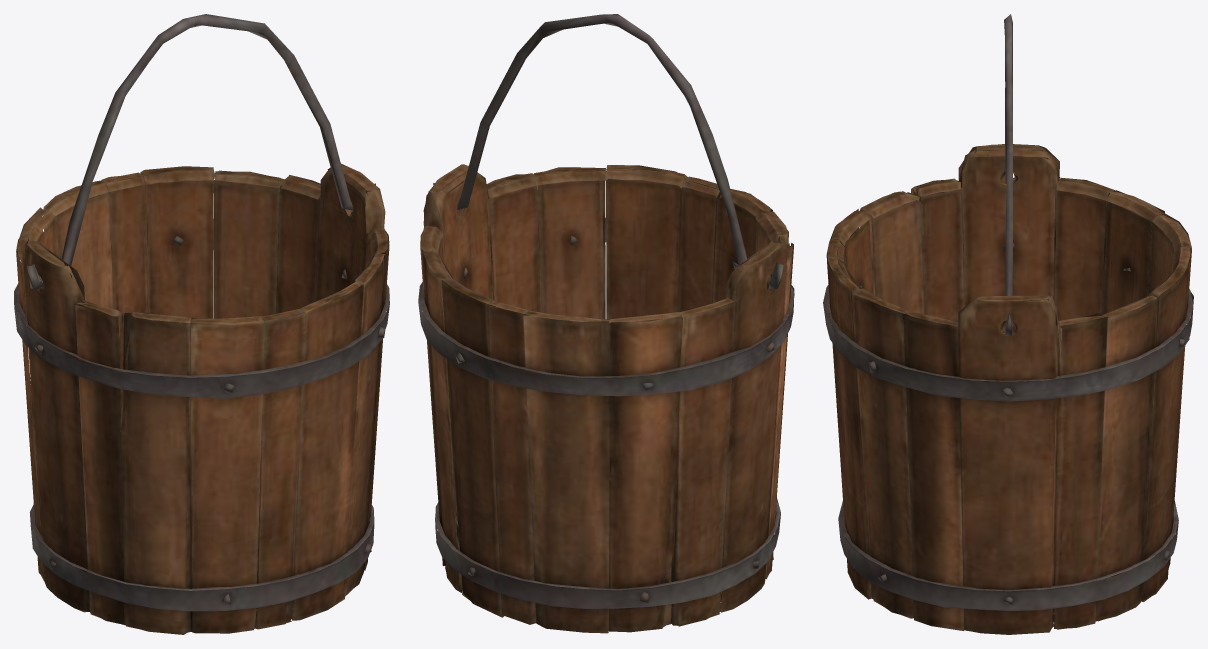
The model's file is bucket.glb.
3 views of the same model, side by side, from view 1: azimuth 30°, elevation 25°; view 2: azimuth 150°, elevation 25°; view 3: azimuth 270°, elevation 25° (orthographic).
Parts seen in each view (by area): view 1: wooden_bucket_01; view 2: wooden_bucket_01; view 3: wooden_bucket_01.
Boxes of the visible parts, bbox=[...] form: wooden_bucket_01: bbox=[14, 14, 389, 634]; wooden_bucket_01: bbox=[418, 14, 794, 633]; wooden_bucket_01: bbox=[823, 14, 1193, 634].
Bounding box in the file's own units: 0.3661 × 0.5521 × 0.3417.
1 material, 1 textured.
